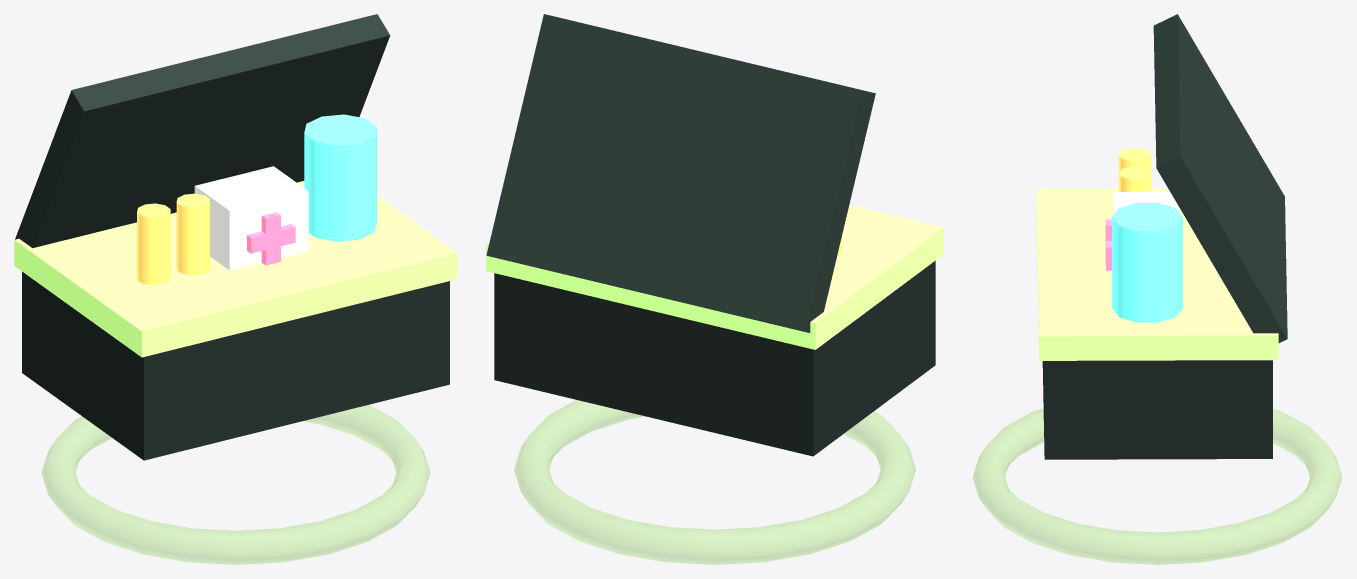
File: pickup_supply.glb
3 views of the same model, side by side, from view 1: azimuth 30°, elevation 25°; view 2: azimuth 150°, elevation 25°; view 3: azimuth 270°, elevation 25° (orthographic). The views are drawn at different scales.
Parts seen in each view (by area): view 1: _MeshInstance3D_4245, _MeshInstance3D_4248, _MeshInstance3D_4246, _MeshInstance3D_4255, _MeshInstance3D_4254, _MeshInstance3D_4251, _MeshInstance3D_4250, _MeshInstance3D_4249, _MeshInstance3D_4252, _MeshInstance3D_4253; view 2: _MeshInstance3D_4248, _MeshInstance3D_4245, _MeshInstance3D_4255, _MeshInstance3D_4246; view 3: _MeshInstance3D_4248, _MeshInstance3D_4245, _MeshInstance3D_4246, _MeshInstance3D_4255, _MeshInstance3D_4254, _MeshInstance3D_4251, _MeshInstance3D_4250, _MeshInstance3D_4249.
Part boxes in pixels (left/top/right/bottom): _MeshInstance3D_4245: left=22, top=271, right=449, bottom=460; _MeshInstance3D_4248: left=15, top=14, right=390, bottom=248; _MeshInstance3D_4246: left=14, top=181, right=457, bottom=357; _MeshInstance3D_4255: left=41, top=405, right=430, bottom=564; _MeshInstance3D_4254: left=304, top=114, right=376, bottom=241; _MeshInstance3D_4251: left=194, top=166, right=308, bottom=270; _MeshInstance3D_4250: left=176, top=193, right=209, bottom=275; _MeshInstance3D_4249: left=137, top=203, right=170, bottom=285; _MeshInstance3D_4252: left=247, top=224, right=295, bottom=253; _MeshInstance3D_4253: left=261, top=212, right=280, bottom=265; _MeshInstance3D_4248: left=486, top=14, right=875, bottom=332; _MeshInstance3D_4245: left=494, top=260, right=935, bottom=456; _MeshInstance3D_4255: left=514, top=400, right=915, bottom=564; _MeshInstance3D_4246: left=486, top=205, right=943, bottom=349; _MeshInstance3D_4248: left=1153, top=14, right=1287, bottom=342; _MeshInstance3D_4245: left=1042, top=360, right=1272, bottom=459; _MeshInstance3D_4246: left=1036, top=188, right=1278, bottom=360; _MeshInstance3D_4255: left=972, top=408, right=1342, bottom=564; _MeshInstance3D_4254: left=1112, top=203, right=1182, bottom=322; _MeshInstance3D_4251: left=1113, top=191, right=1179, bottom=214; _MeshInstance3D_4250: left=1119, top=166, right=1151, bottom=191; _MeshInstance3D_4249: left=1118, top=148, right=1151, bottom=191.
Bounding box in the file's own units: 0.68 × 0.8209 × 0.68.
